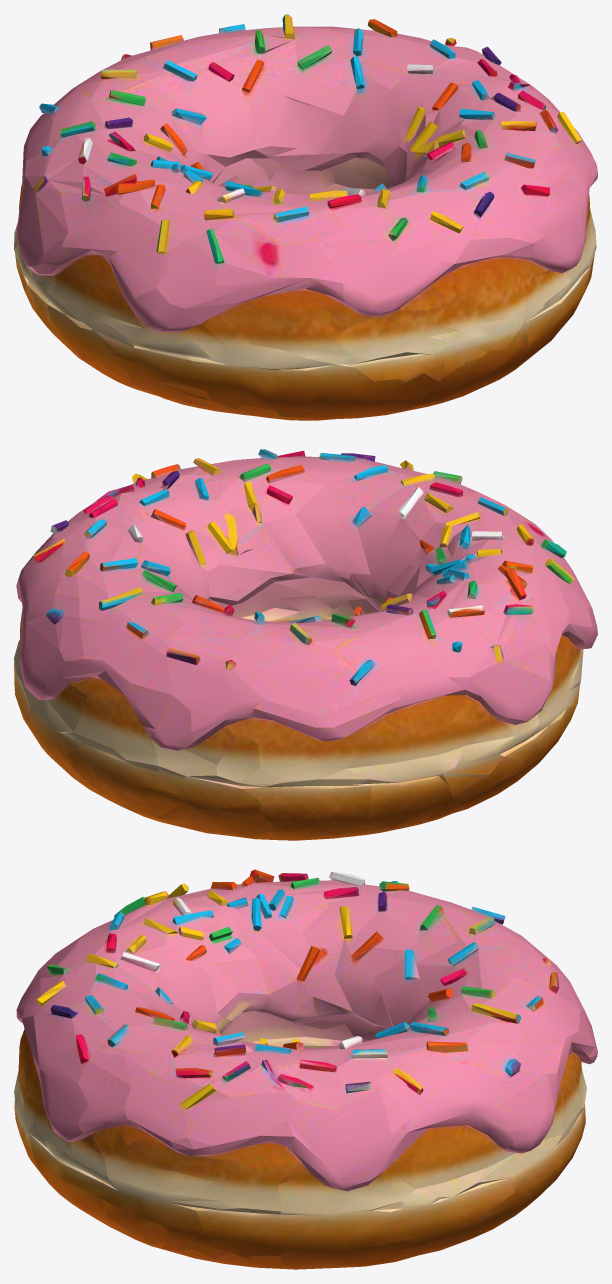
Rendered from addy_lunch_donut.glb.
3 views of the same model, one above another, from view 1: azimuth 30°, elevation 25°; view 2: azimuth 150°, elevation 25°; view 3: azimuth 270°, elevation 25° (orthographic). The views are drawn at different scales.
Bounding box in the file's own units: 1.9 × 0.7751 × 1.87.
Materials: 1 (1 with a texture image).
